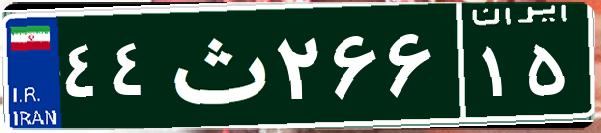1: (475, 38, 525, 113)
2: (273, 28, 330, 110)
4: (57, 26, 110, 107), (110, 28, 158, 105)
5: (525, 38, 570, 115)
6: (385, 28, 445, 110), (330, 28, 385, 110)
ث: (158, 15, 273, 115)
